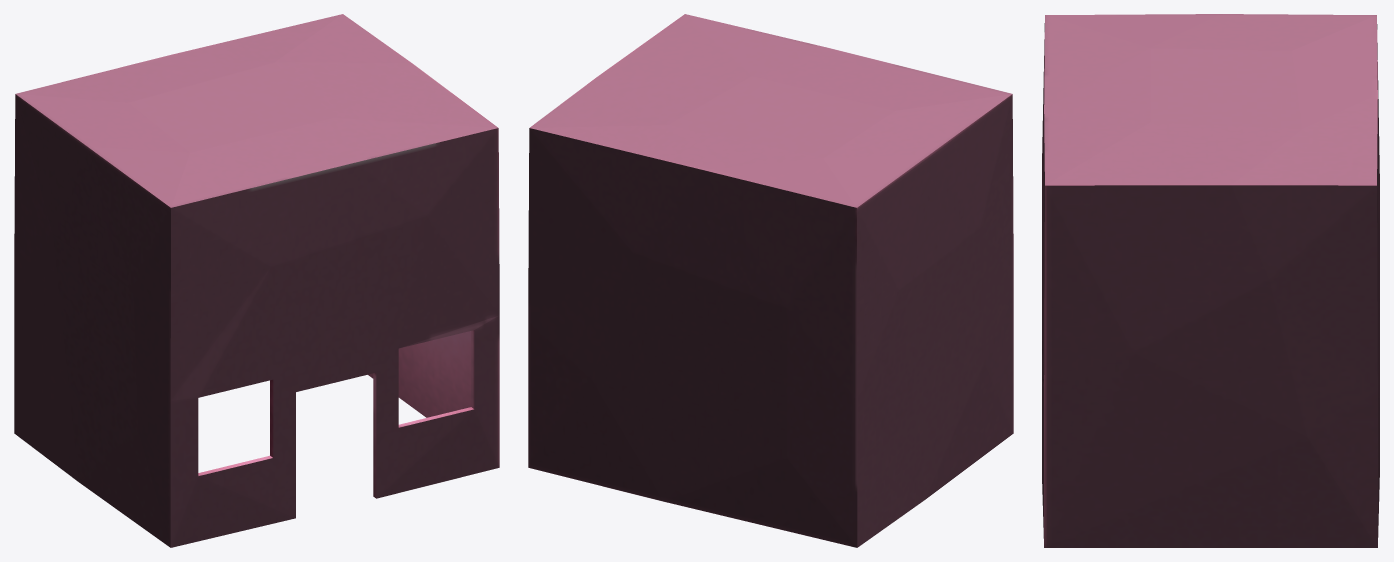
File: building4.dae
3 views of the same model, side by side, from view 1: azimuth 30°, elevation 25°; view 2: azimuth 150°, elevation 25°; view 3: azimuth 270°, elevation 25° (orthographic). The views are drawn at different scales.
Visible parts, largest first — view 1: Cube; view 2: Cube; view 3: Cube.
Boxes of the visible parts, x1,y1,x2,y2 form: Cube: (14, 14, 499, 547); Cube: (528, 14, 1013, 547); Cube: (1042, 14, 1379, 547).
Bounding box in the file's own units: 2.07 × 1.71 × 2.03.
Materials: 1 (1 with a texture image).
